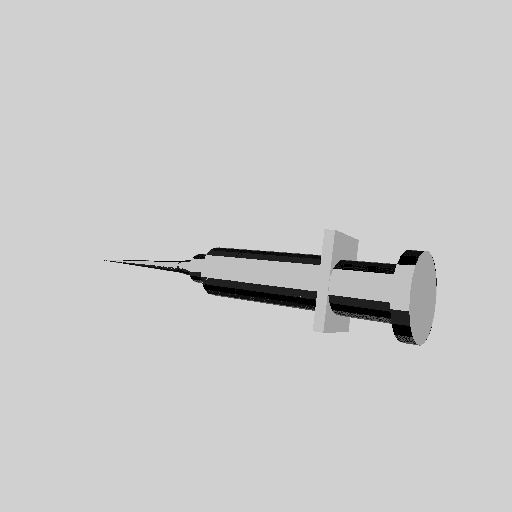jeringuilla: (95, 216, 454, 353)
